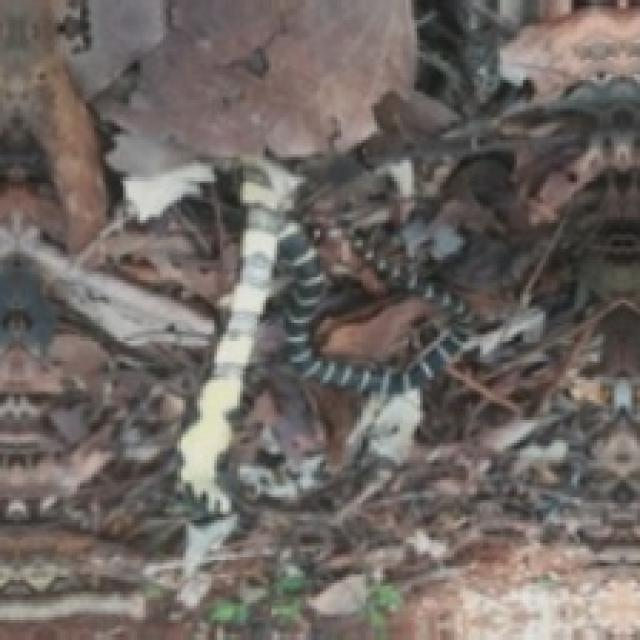king cobra: (180, 160, 300, 511)
